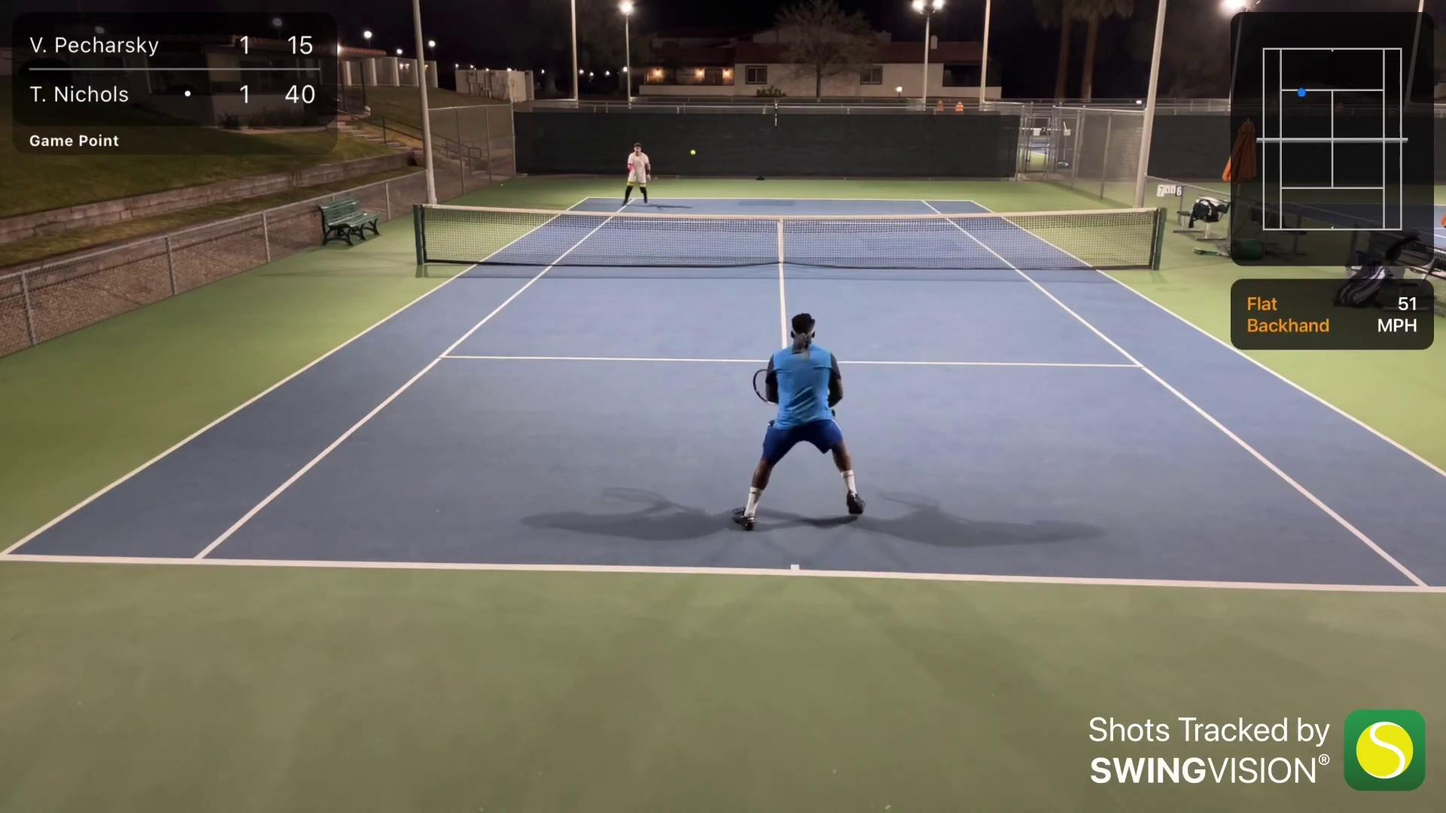ball: (691, 150, 697, 157)
